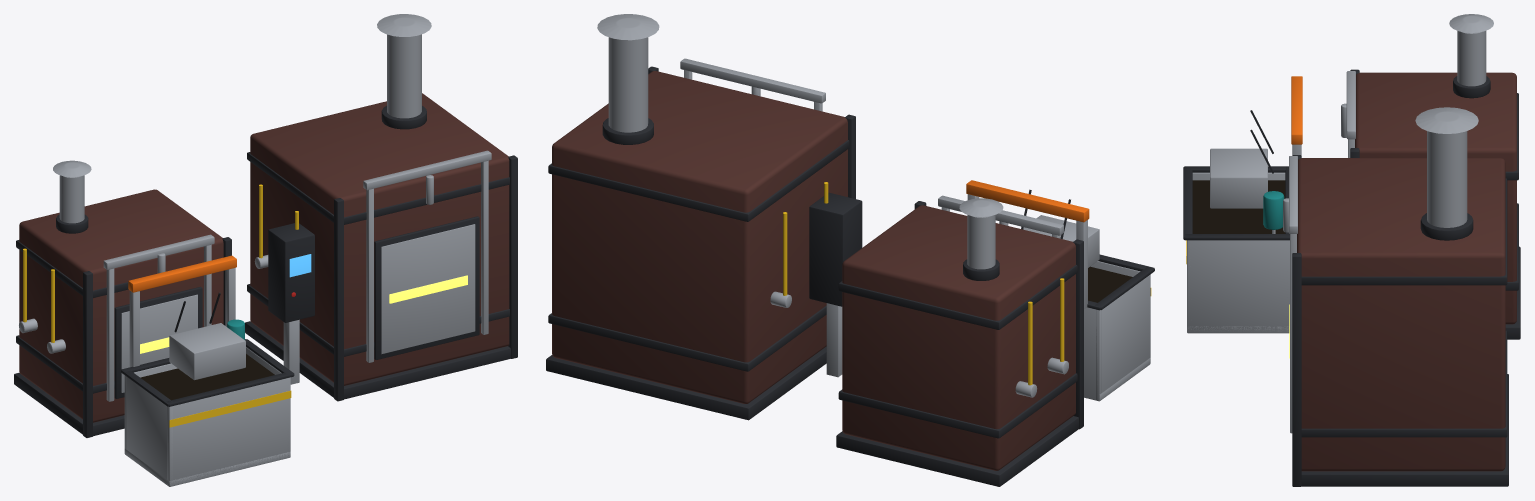
File: Station_HeatTreatment.fbx
3 views of the same model, side by side, from view 1: azimuth 30°, elevation 25°; view 2: azimuth 150°, elevation 25°; view 3: azimuth 270°, elevation 25° (orthographic). The views are drawn at different scales.
Parts seen in each view (by area): view 1: Quench Furnace, Temper Furnace, Quench Tank; view 2: Quench Furnace, Temper Furnace, Quench Tank; view 3: Quench Furnace, Quench Tank, Temper Furnace.
Part boxes in pixels (x1,y1,x2,y2): Quench Furnace: (245,14,517,401); Temper Furnace: (14,160,231,437); Quench Tank: (121,255,294,486); Quench Furnace: (546,14,862,420); Temper Furnace: (836,195,1083,486); Quench Tank: (966,180,1154,401); Quench Furnace: (1283,107,1508,486); Quench Tank: (1183,76,1302,333); Temper Furnace: (1341,14,1520,339).
Size of the model in its own units: 4.8 by 3.28 by 2.91.
